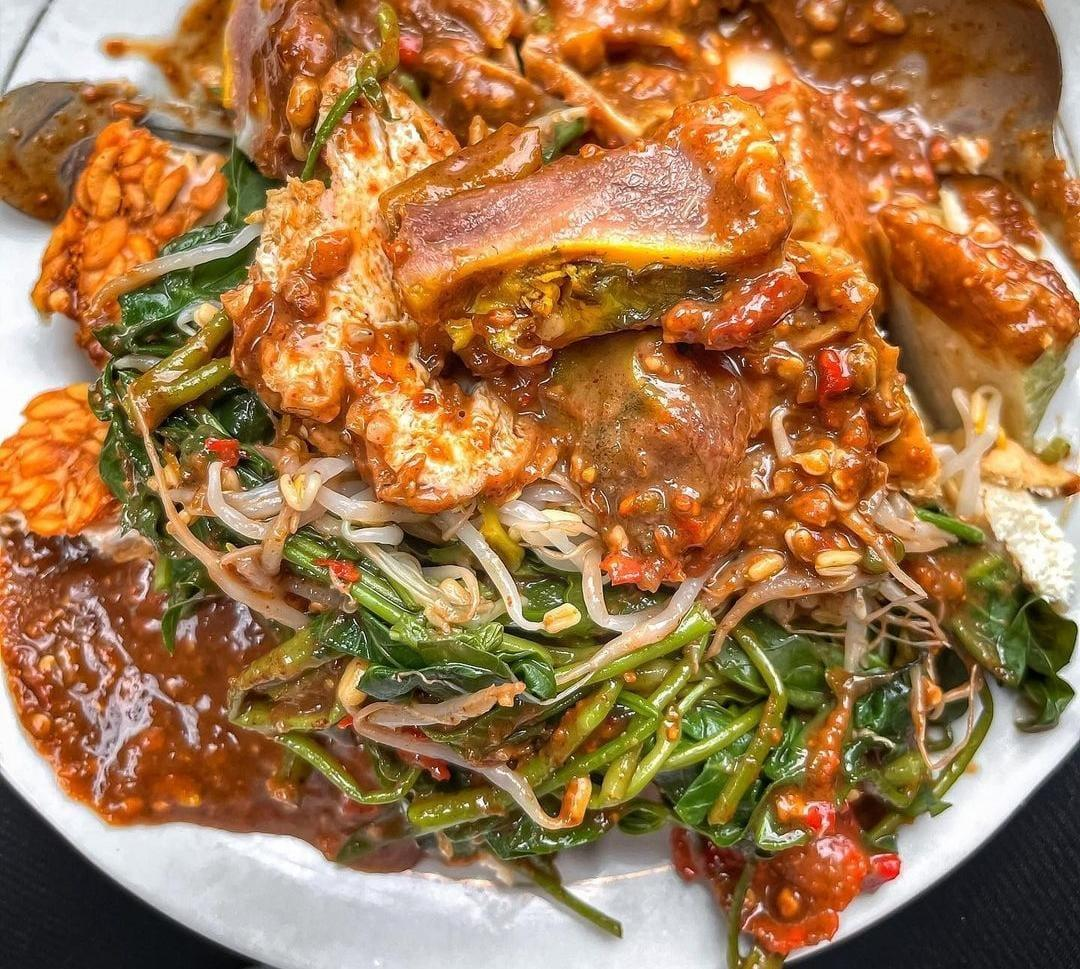rujak_cingur: (2, 1, 1080, 887)
